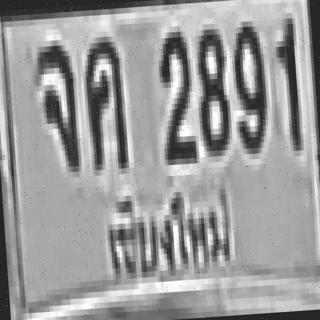A04: (80, 33, 126, 168)
A08: (31, 39, 79, 168)
N01: (271, 12, 301, 146)
N02: (155, 25, 195, 160)
N08: (191, 23, 229, 152)
N09: (229, 15, 267, 149)
P11: (99, 177, 238, 289)
